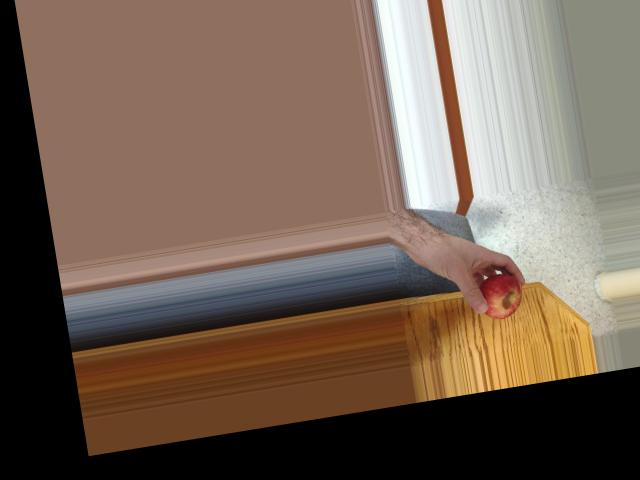apple: (470, 270, 526, 323)
